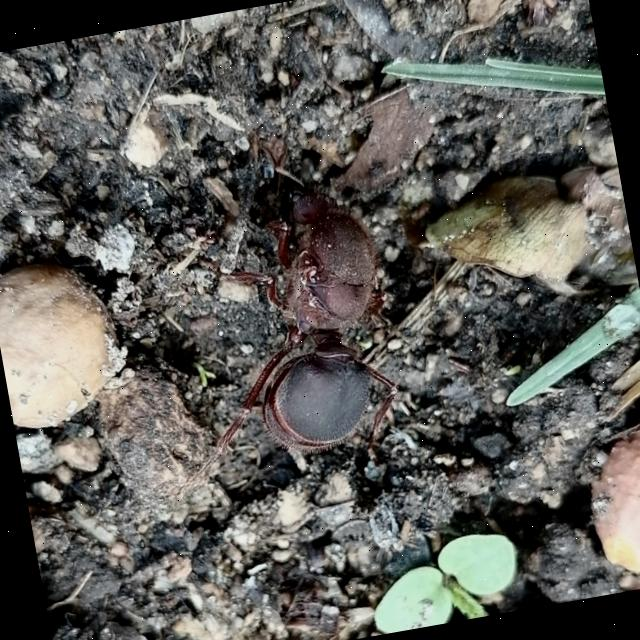Alive-Female-Dealate: (124, 150, 418, 504)
